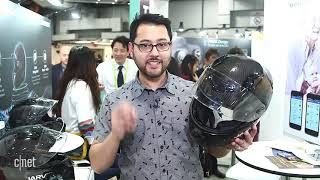helmets: (183, 52, 275, 152)
